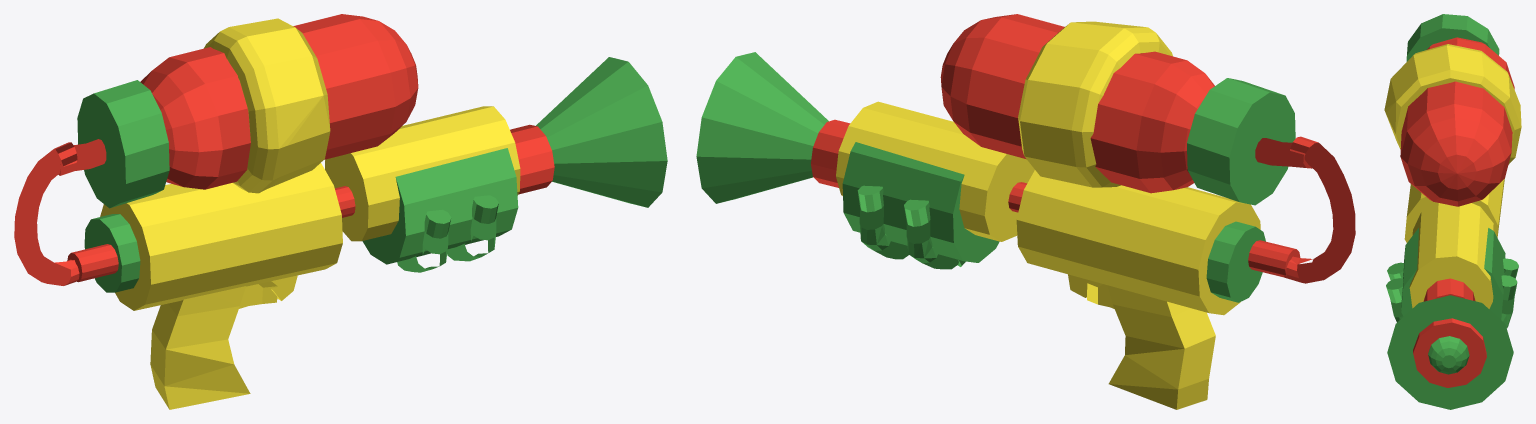
The model's file is Watergun.glb.
3 renders of one model, left to right at view 1: azimuth 30°, elevation 25°; view 2: azimuth 150°, elevation 25°; view 3: azimuth 270°, elevation 25°, orthographic. The views are drawn at different scales.
Parts seen in each view (by area): view 1: Node; view 2: Node; view 3: Node.
Part boxes in pixels (x1=…): Node: x1=14, y1=14, x2=667, y2=409; Node: x1=696, y1=14, x2=1355, y2=409; Node: x1=1384, y1=14, x2=1521, y2=409.
Size of the model in its own units: 0.5704 by 0.2986 by 0.13.
